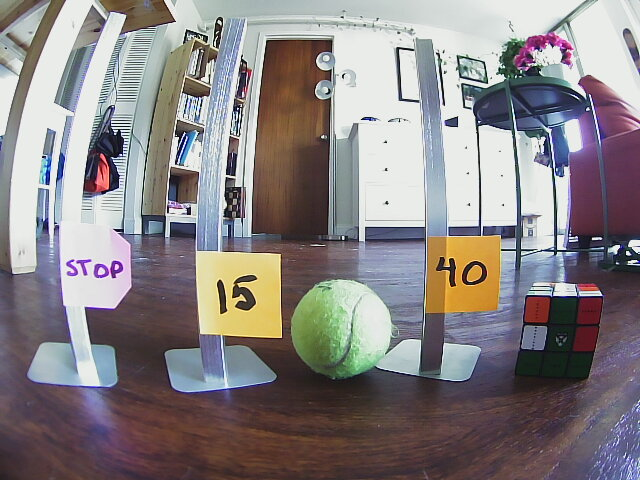15: (197, 254, 277, 333)
40: (429, 240, 500, 310)
ball: (291, 279, 394, 376)
cube: (519, 282, 601, 378)
stop: (61, 226, 128, 303)
